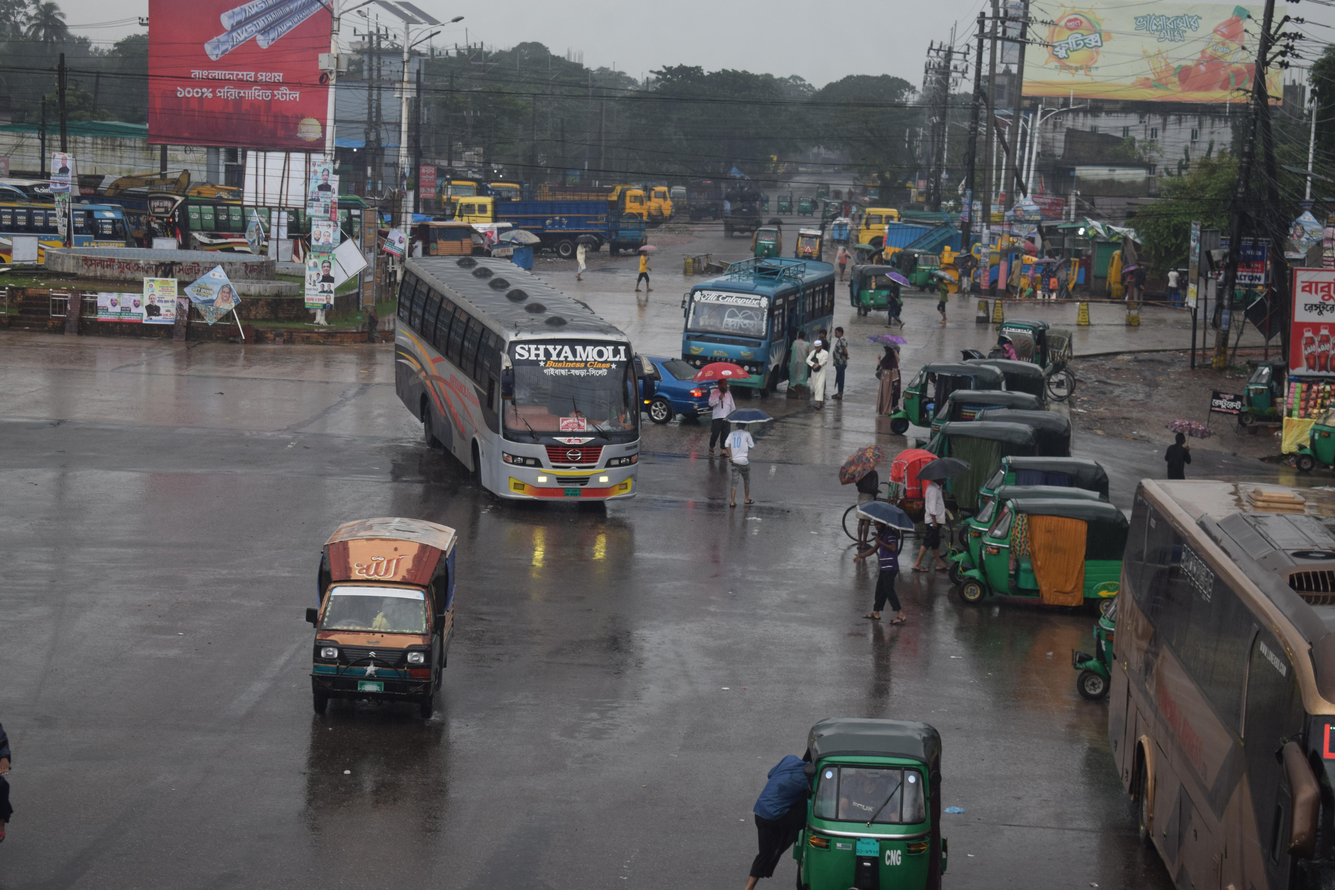Bus: (1064, 444, 1335, 890), (346, 227, 690, 551), (668, 250, 854, 412), (124, 190, 318, 275), (0, 182, 149, 282)
Car: (235, 496, 484, 759), (818, 439, 982, 563)
Truck: (433, 185, 623, 268), (840, 203, 968, 257)
